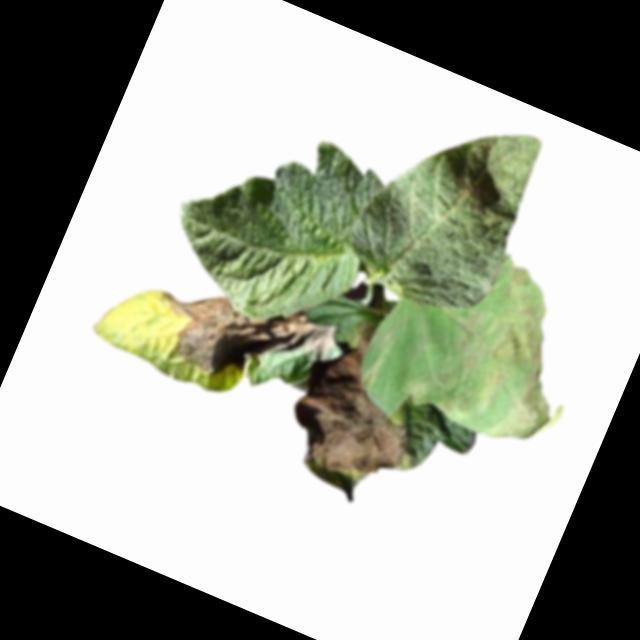Late_blight: (417, 244, 614, 462), (273, 306, 452, 502), (138, 257, 342, 415)
